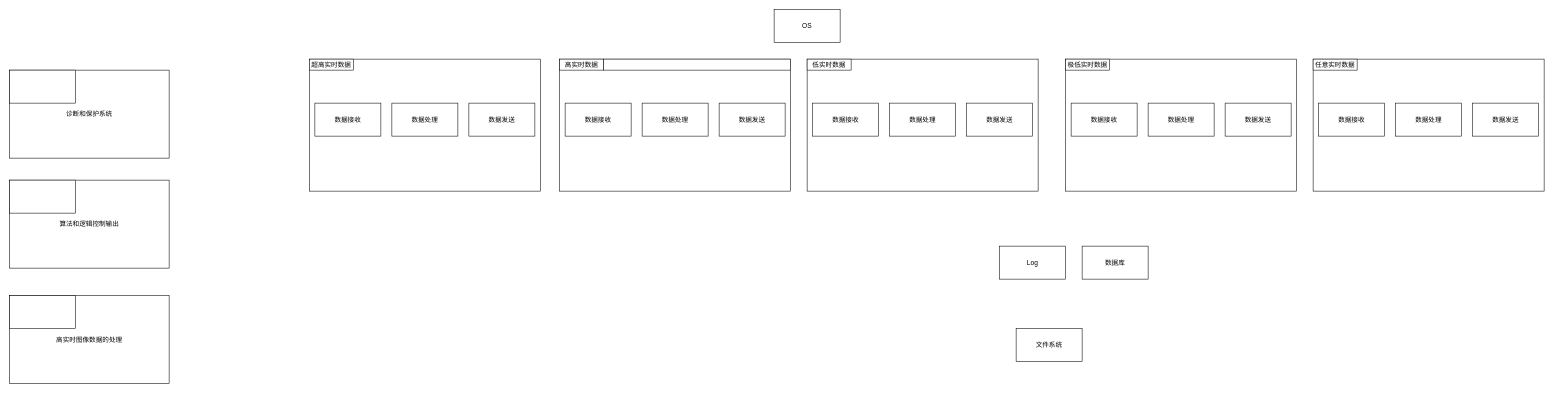
Image size: 1554x393. Some labels were removed from this diagram. Each missing label, with the centre of its shape:
CPU1: (x=42, y=86)
CPU2: (x=42, y=196)
GPU1: (x=42, y=312)
控制信号>视频信号>自动调节信号: (x=697, y=64)
